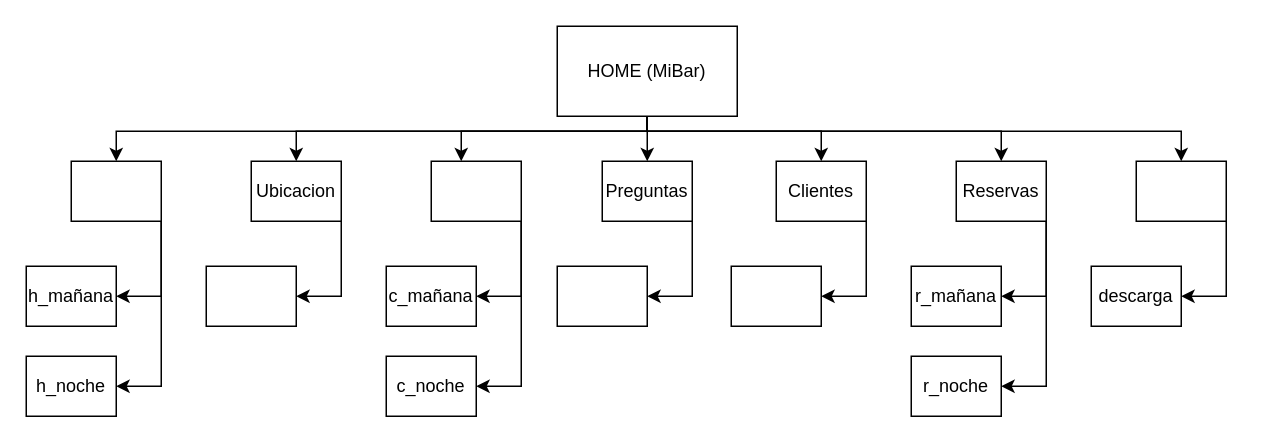
This 1265x443 diagram has some shape labels left out. Here are the shapes that lost their labels. From the top down, the centre of each, then its label:
At [115,190]: "Horarios".
At [475,190]: "Carta".
At [1180,190]: "Logo".
At [250,295]: "google maps".
At [601,295]: "p.doc".
At [775,295]: "fotos".
